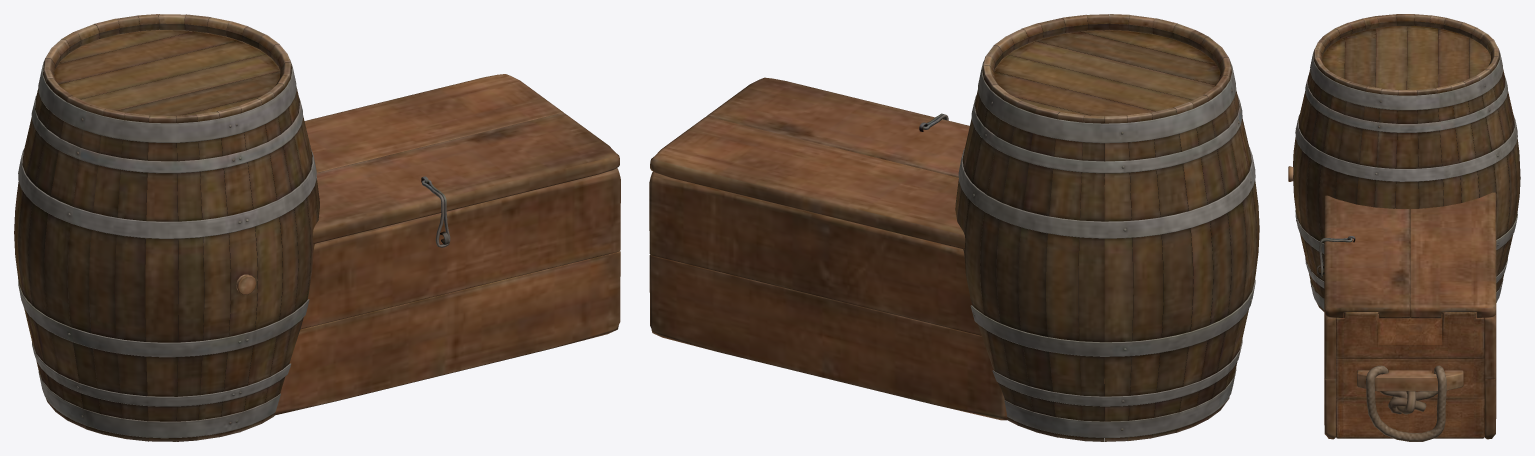
Rendered from crate_loot_realistic.glb.
The picture shows the model from 3 angles, left to right: view 1: azimuth 30°, elevation 25°; view 2: azimuth 150°, elevation 25°; view 3: azimuth 270°, elevation 25°; orthographic projection. The views are drawn at different scales.
Visible parts, largest first — view 1: wine_barrel_01, wooden_crate_01, wooden_crate_01_lid, wine_barrel_01_Lid; view 2: wine_barrel_01, wooden_crate_01, wooden_crate_01_lid, wine_barrel_01_Lid; view 3: wine_barrel_01, wooden_crate_01, wooden_crate_01_lid, wine_barrel_01_Lid, wooden_crate_01_latch.
Boxes of the visible parts, <box> form: wine_barrel_01: <box>14,14,319,441</box>; wooden_crate_01: <box>274,168,620,415</box>; wooden_crate_01_lid: <box>304,74,619,243</box>; wine_barrel_01_Lid: <box>54,29,280,115</box>; wine_barrel_01: <box>955,14,1259,441</box>; wooden_crate_01: <box>649,172,1104,420</box>; wooden_crate_01_lid: <box>650,77,1104,249</box>; wine_barrel_01_Lid: <box>994,30,1220,117</box>; wine_barrel_01: <box>1293,14,1520,313</box>; wooden_crate_01: <box>1317,265,1496,441</box>; wooden_crate_01_lid: <box>1324,192,1496,318</box>; wine_barrel_01_Lid: <box>1322,26,1490,89</box>; wooden_crate_01_latch: <box>1319,238,1352,277</box>.
Bounding box in the file's own units: 1.58 × 0.8719 × 0.756.
Materials: 2 (2 with a texture image).
